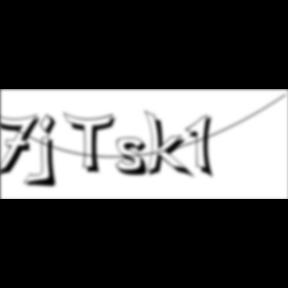1: (184, 114, 219, 182)
7: (0, 111, 46, 179)
T: (63, 112, 121, 176)
j: (36, 113, 64, 191)
k: (144, 108, 198, 181)
s: (116, 137, 154, 179)
